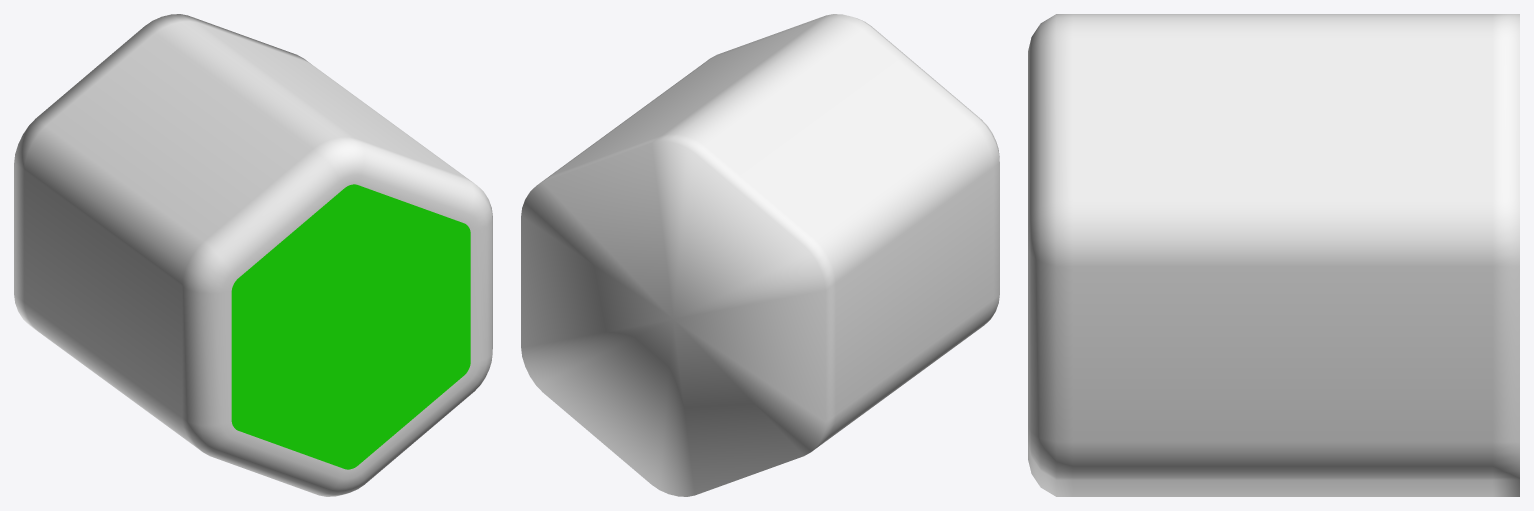
Rendered from CPI_D_FBX_06_Bumper_02_A.fbx.
The picture shows the model from 3 angles, left to right: view 1: azimuth 30°, elevation 25°; view 2: azimuth 150°, elevation 25°; view 3: azimuth 270°, elevation 25°; orthographic projection. The views are drawn at different scales.
Visible parts, largest first — view 1: CPI_D_FBX_06_Bumper_02_A; view 2: CPI_D_FBX_06_Bumper_02_A; view 3: CPI_D_FBX_06_Bumper_02_A.
Part boxes in pixels (x1,y1,x2,y2): CPI_D_FBX_06_Bumper_02_A: [14, 14, 492, 496]; CPI_D_FBX_06_Bumper_02_A: [521, 14, 999, 496]; CPI_D_FBX_06_Bumper_02_A: [1028, 14, 1519, 496].
Bounding box in the file's own units: 2 × 2.21 × 2.1.
